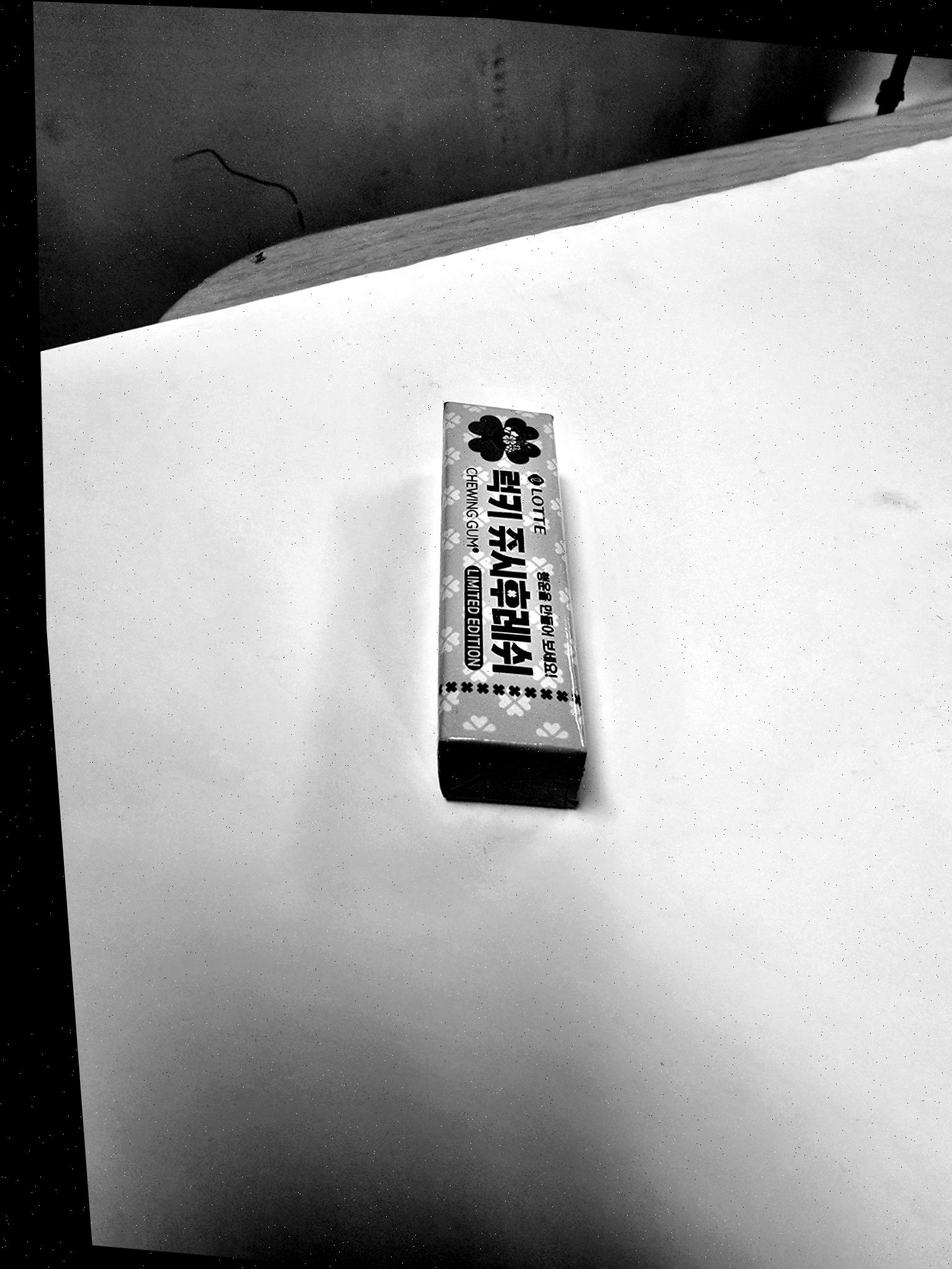gum_yellow: (437, 402, 584, 805)
